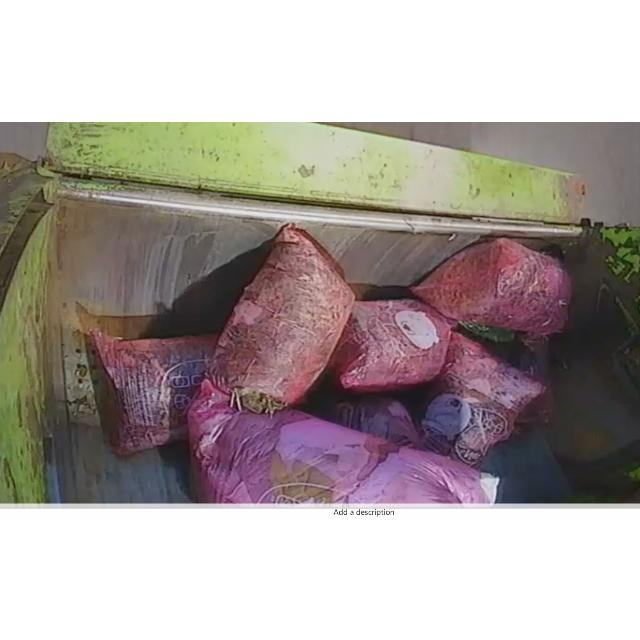other_trashbag: (188, 380, 494, 503), (209, 224, 355, 413), (420, 332, 545, 465), (90, 328, 216, 455), (410, 237, 572, 335), (332, 298, 451, 390), (335, 400, 420, 447)
